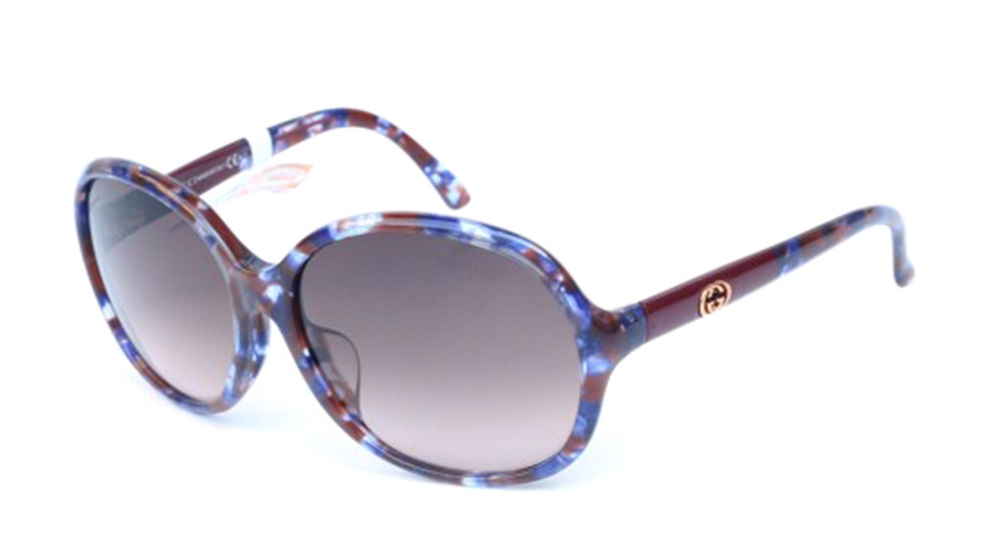Gucci: (683, 276, 741, 327)
